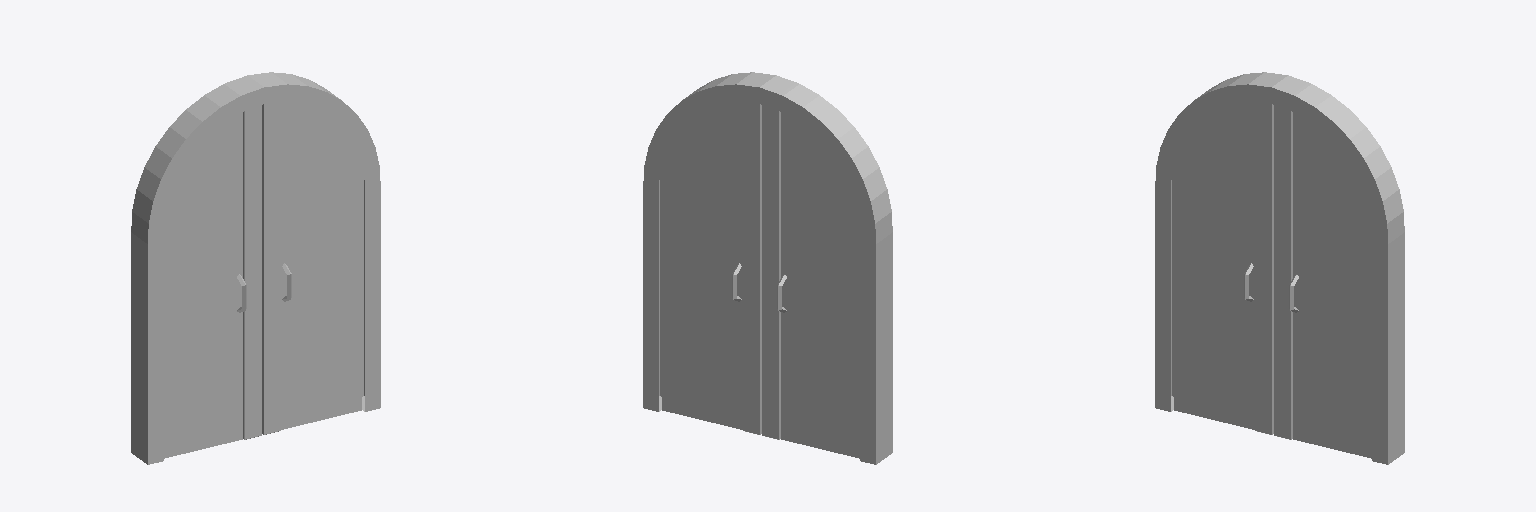
Rendered from door.obj.
3 renders of one model, left to right at view 1: azimuth 30°, elevation 25°; view 2: azimuth 150°, elevation 25°; view 3: azimuth 330°, elevation 25°, orthographic.
Parts seen in each view (by area): view 1: l_1, r_1, br; view 2: l_1, r_1, br; view 3: r_1, l_1, br.
Boxes of the visible parts, x1=… form: l_1: x1=262, y1=101, x2=361, y2=434; r_1: x1=164, y1=105, x2=261, y2=458; br: x1=131, y1=72, x2=380, y2=464; l_1: x1=662, y1=101, x2=761, y2=434; r_1: x1=762, y1=105, x2=859, y2=458; br: x1=643, y1=72, x2=892, y2=464; r_1: x1=1174, y1=101, x2=1273, y2=434; l_1: x1=1274, y1=105, x2=1371, y2=458; br: x1=1155, y1=72, x2=1404, y2=464.
Size of the model in its own units: 4.72 by 6.77 by 0.8556.